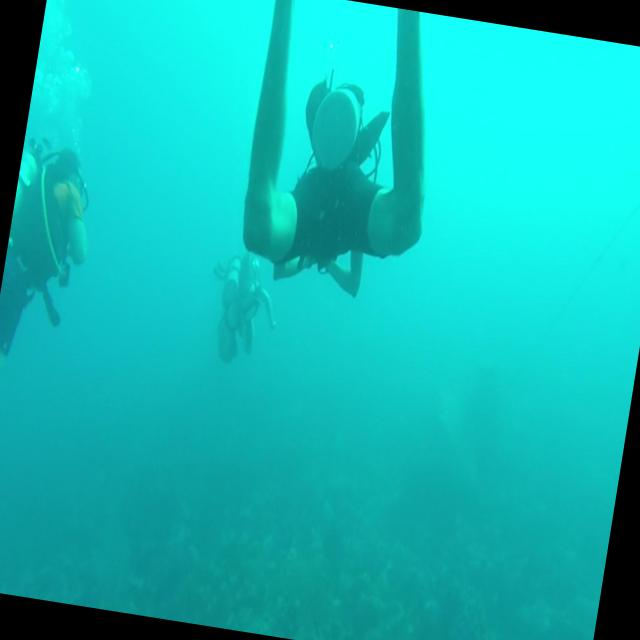human: (227, 0, 456, 307), (0, 132, 103, 448), (198, 246, 286, 370)
